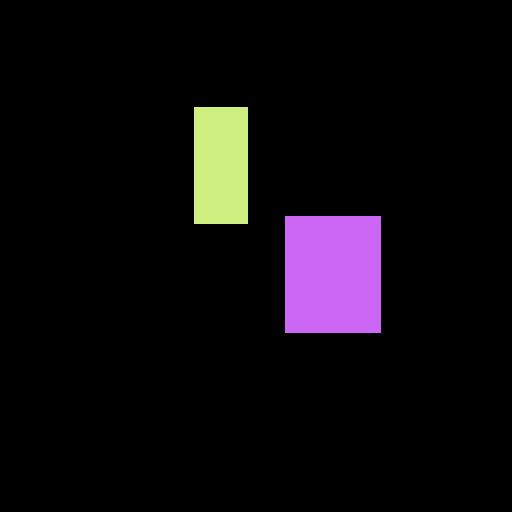rectangle: (285, 216, 380, 332), (194, 107, 247, 223)
